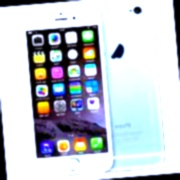iphone: (72, 6, 154, 174)
